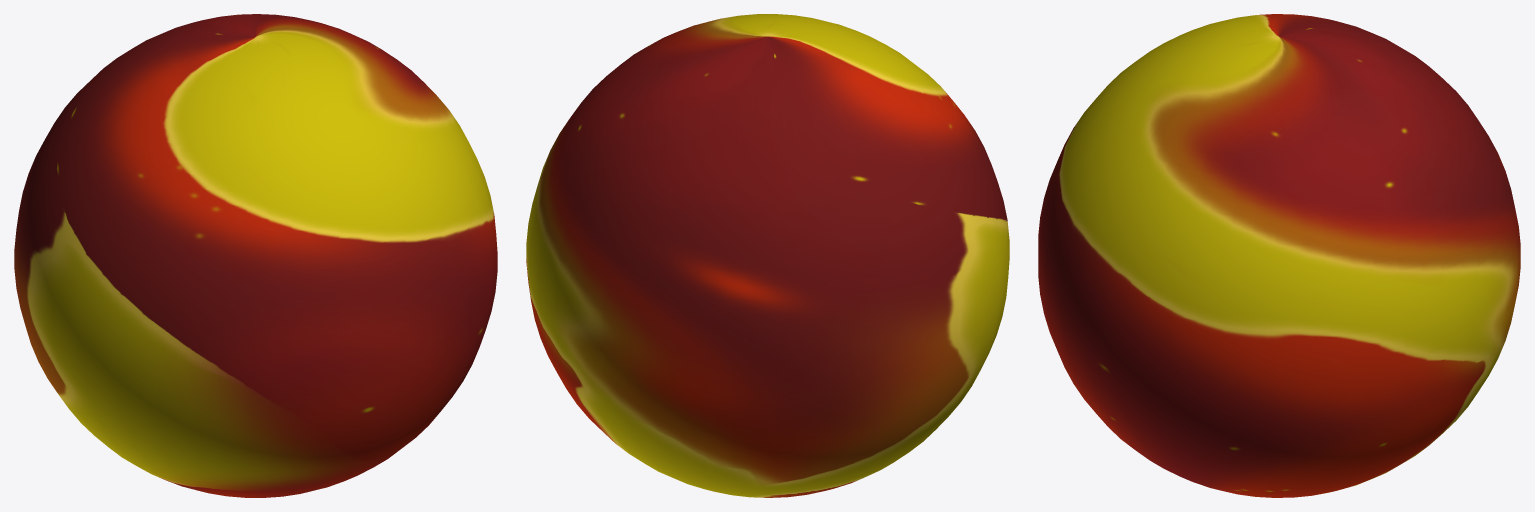
The model's file is reddevilNew.fbx.
3 views of the same model, side by side, from view 1: azimuth 30°, elevation 25°; view 2: azimuth 150°, elevation 25°; view 3: azimuth 270°, elevation 25° (orthographic).
Parts seen in each view (by area): view 1: RedDevil; view 2: RedDevil; view 3: RedDevil.
Boxes of the visible parts, bbox=[...] form: RedDevil: bbox=[14, 14, 497, 497]; RedDevil: bbox=[526, 14, 1009, 497]; RedDevil: bbox=[1038, 14, 1520, 497].
Bounding box in the file's own units: 200 × 200 × 199.
1 material, 1 textured.
